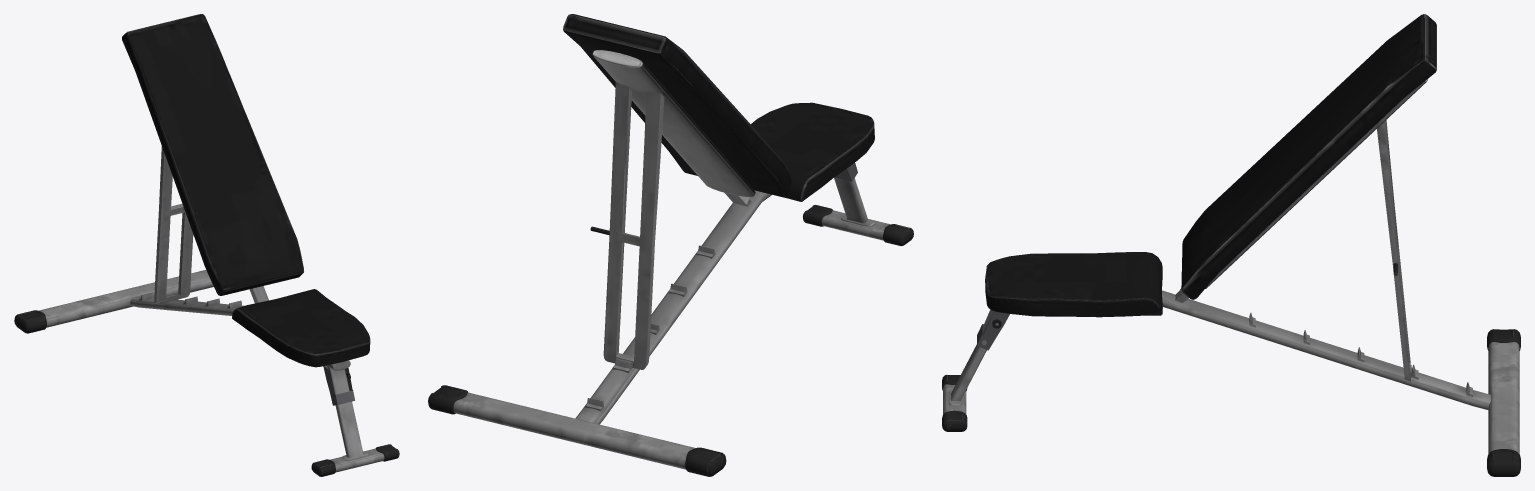
The model's file is incline-bench.glb.
3 views of the same model, side by side, from view 1: azimuth 30°, elevation 25°; view 2: azimuth 150°, elevation 25°; view 3: azimuth 270°, elevation 25° (orthographic). The views are drawn at different scales.
Visible parts, largest first — view 1: Cube.031_incline bench_0, Cube.030_incline bench_0, Cube.029_incline bench_0, front foot_low.005_incline bench_0, frame_low.002_incline bench_0, front leg_low.002_incline bench_0, front foot_low.004_incline bench_0, Cube.028_incline bench_0; view 2: Cube.029_incline bench_0, Cube.031_incline bench_0, Cube.030_incline bench_0, front foot_low.005_incline bench_0, frame_low.002_incline bench_0, front foot_low.004_incline bench_0, front leg_low.002_incline bench_0; view 3: Cube.031_incline bench_0, Cube.030_incline bench_0, frame_low.002_incline bench_0, front foot_low.005_incline bench_0, Cube.029_incline bench_0, front foot_low.004_incline bench_0, front leg_low.002_incline bench_0, Cube.028_incline bench_0.
Part boxes in pixels (left/top/right/bottom): Cube.031_incline bench_0: left=122, top=14, right=303, bottom=295; Cube.030_incline bench_0: left=232, top=289, right=370, bottom=367; Cube.029_incline bench_0: left=154, top=146, right=268, bottom=303; front foot_low.005_incline bench_0: left=14, top=270, right=213, bottom=333; frame_low.002_incline bench_0: left=130, top=292, right=350, bottom=370; front leg_low.002_incline bench_0: left=326, top=365, right=368, bottom=460; front foot_low.004_incline bench_0: left=311, top=444, right=399, bottom=476; Cube.028_incline bench_0: left=323, top=365, right=354, bottom=405; Cube.029_incline bench_0: left=590, top=50, right=755, bottom=369; Cube.031_incline bench_0: left=563, top=14, right=791, bottom=197; Cube.030_incline bench_0: left=751, top=102, right=874, bottom=201; front foot_low.005_incline bench_0: left=428, top=385, right=726, bottom=476; frame_low.002_incline bench_0: left=575, top=190, right=771, bottom=424; front foot_low.004_incline bench_0: left=803, top=205, right=913, bottom=245; front leg_low.002_incline bench_0: left=834, top=177, right=874, bottom=226; Cube.031_incline bench_0: left=1181, top=14, right=1436, bottom=299; Cube.030_incline bench_0: left=985, top=252, right=1162, bottom=317; frame_low.002_incline bench_0: left=1162, top=290, right=1490, bottom=409; front foot_low.005_incline bench_0: left=1487, top=329, right=1520, bottom=476; Cube.029_incline bench_0: left=1175, top=79, right=1427, bottom=381; front foot_low.004_incline bench_0: left=942, top=374, right=967, bottom=431; front leg_low.002_incline bench_0: left=949, top=312, right=993, bottom=405; Cube.028_incline bench_0: left=977, top=310, right=1009, bottom=350.
Size of the model in its own units: 0.8939 by 1.15 by 1.61.
Materials: 1 (1 with a texture image).
